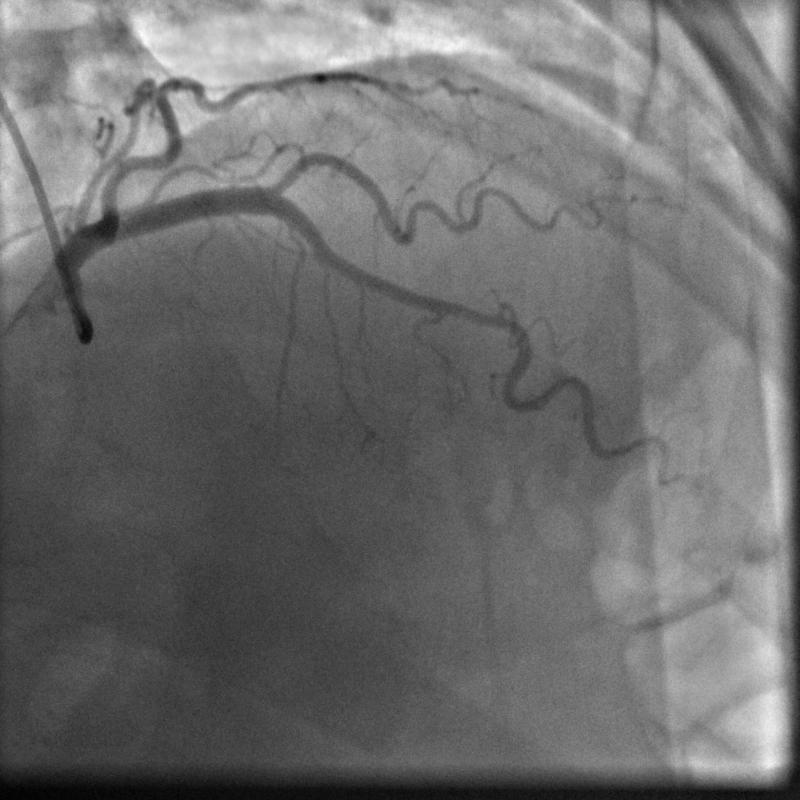Stenosis: (455, 305, 513, 338)
